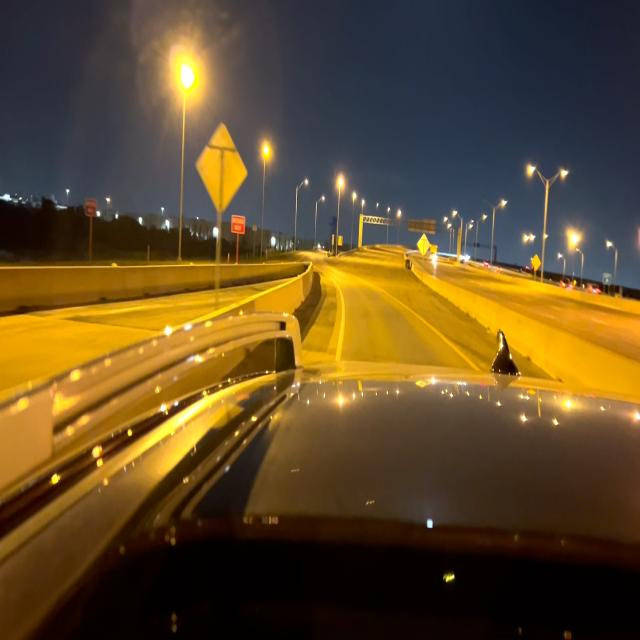back-of-sign: (197, 120, 248, 213)
